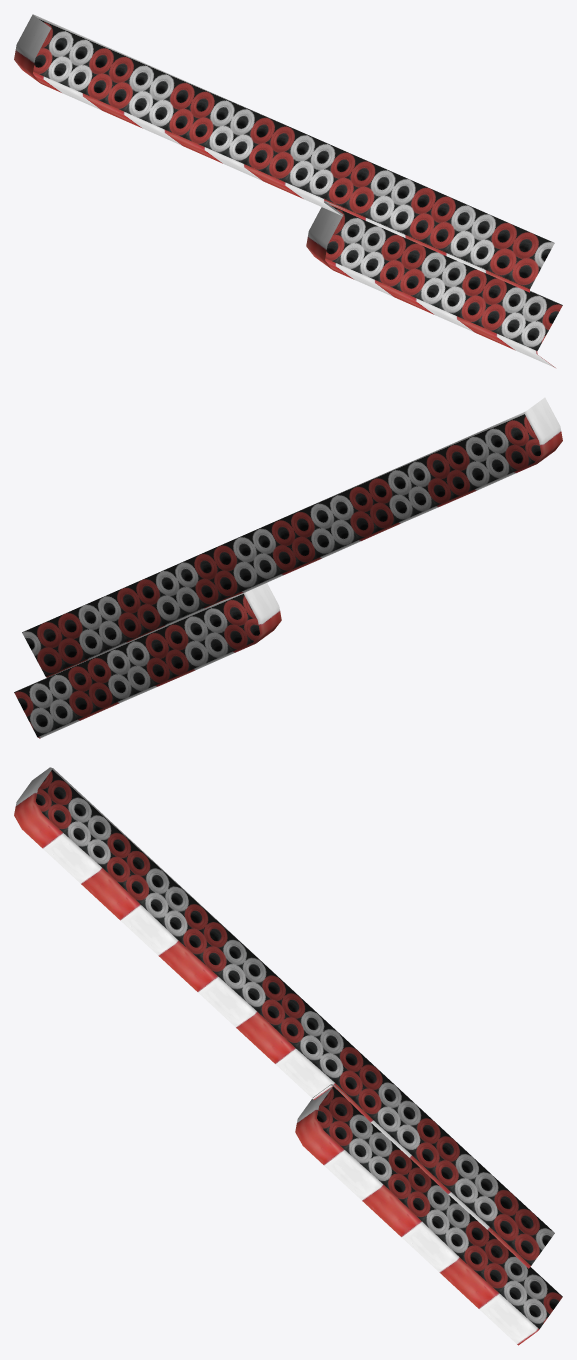
The model's file is _1WALL_tires01_03_Scene.379.obj.
3 renders of one model, top to bottom at view 1: azimuth 30°, elevation 25°; view 2: azimuth 150°, elevation 25°; view 3: azimuth 330°, elevation 25°, orthographic. The views are drawn at different scales.
Visible parts, largest first — view 1: _1WALL_tires01_03_Scene.379; view 2: _1WALL_tires01_03_Scene.379; view 3: _1WALL_tires01_03_Scene.379.
Boxes of the visible parts, x1=… form: _1WALL_tires01_03_Scene.379: x1=14, y1=14, x2=562, y2=367; _1WALL_tires01_03_Scene.379: x1=14, y1=397, x2=562, y2=738; _1WALL_tires01_03_Scene.379: x1=14, y1=767, x2=562, y2=1345.
Size of the model in its own units: 17.59 by 14.16 by 1.18.
